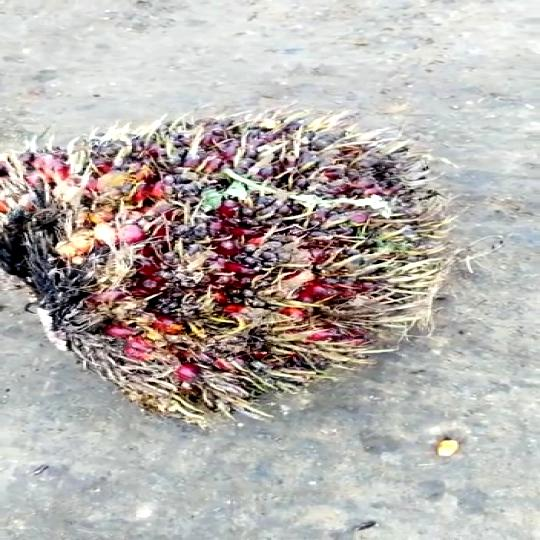kurang masak: (268, 0, 539, 393)
